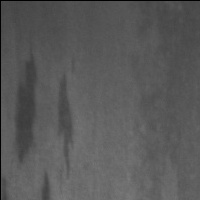inclusion: (10, 49, 40, 167), (55, 69, 80, 181), (36, 170, 54, 200)
